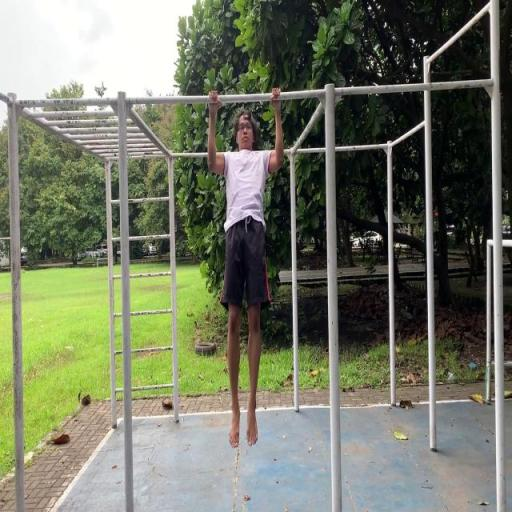Normal_BrenchPress: (206, 86, 285, 450)
